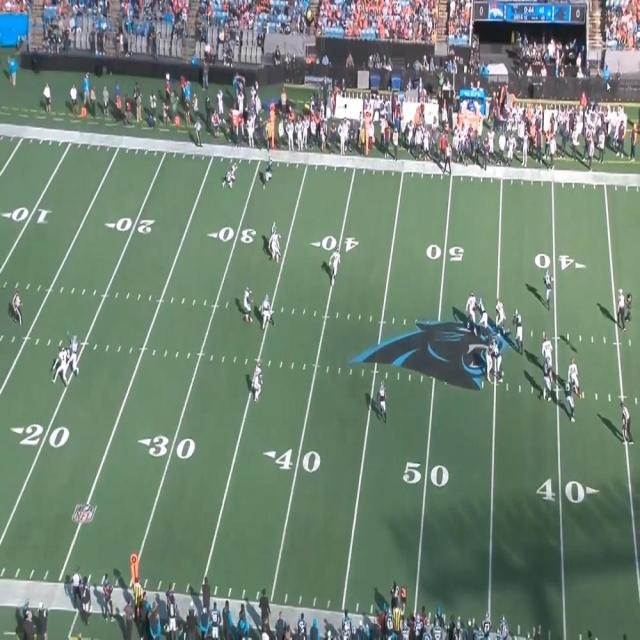db: (58, 347, 68, 388), (244, 288, 252, 322), (254, 364, 261, 400), (270, 234, 280, 259), (226, 163, 236, 188)
lb: (332, 249, 341, 282)
qb: (543, 269, 553, 308)
skill: (377, 379, 387, 417), (262, 294, 272, 328), (262, 157, 272, 183), (271, 223, 279, 237)
